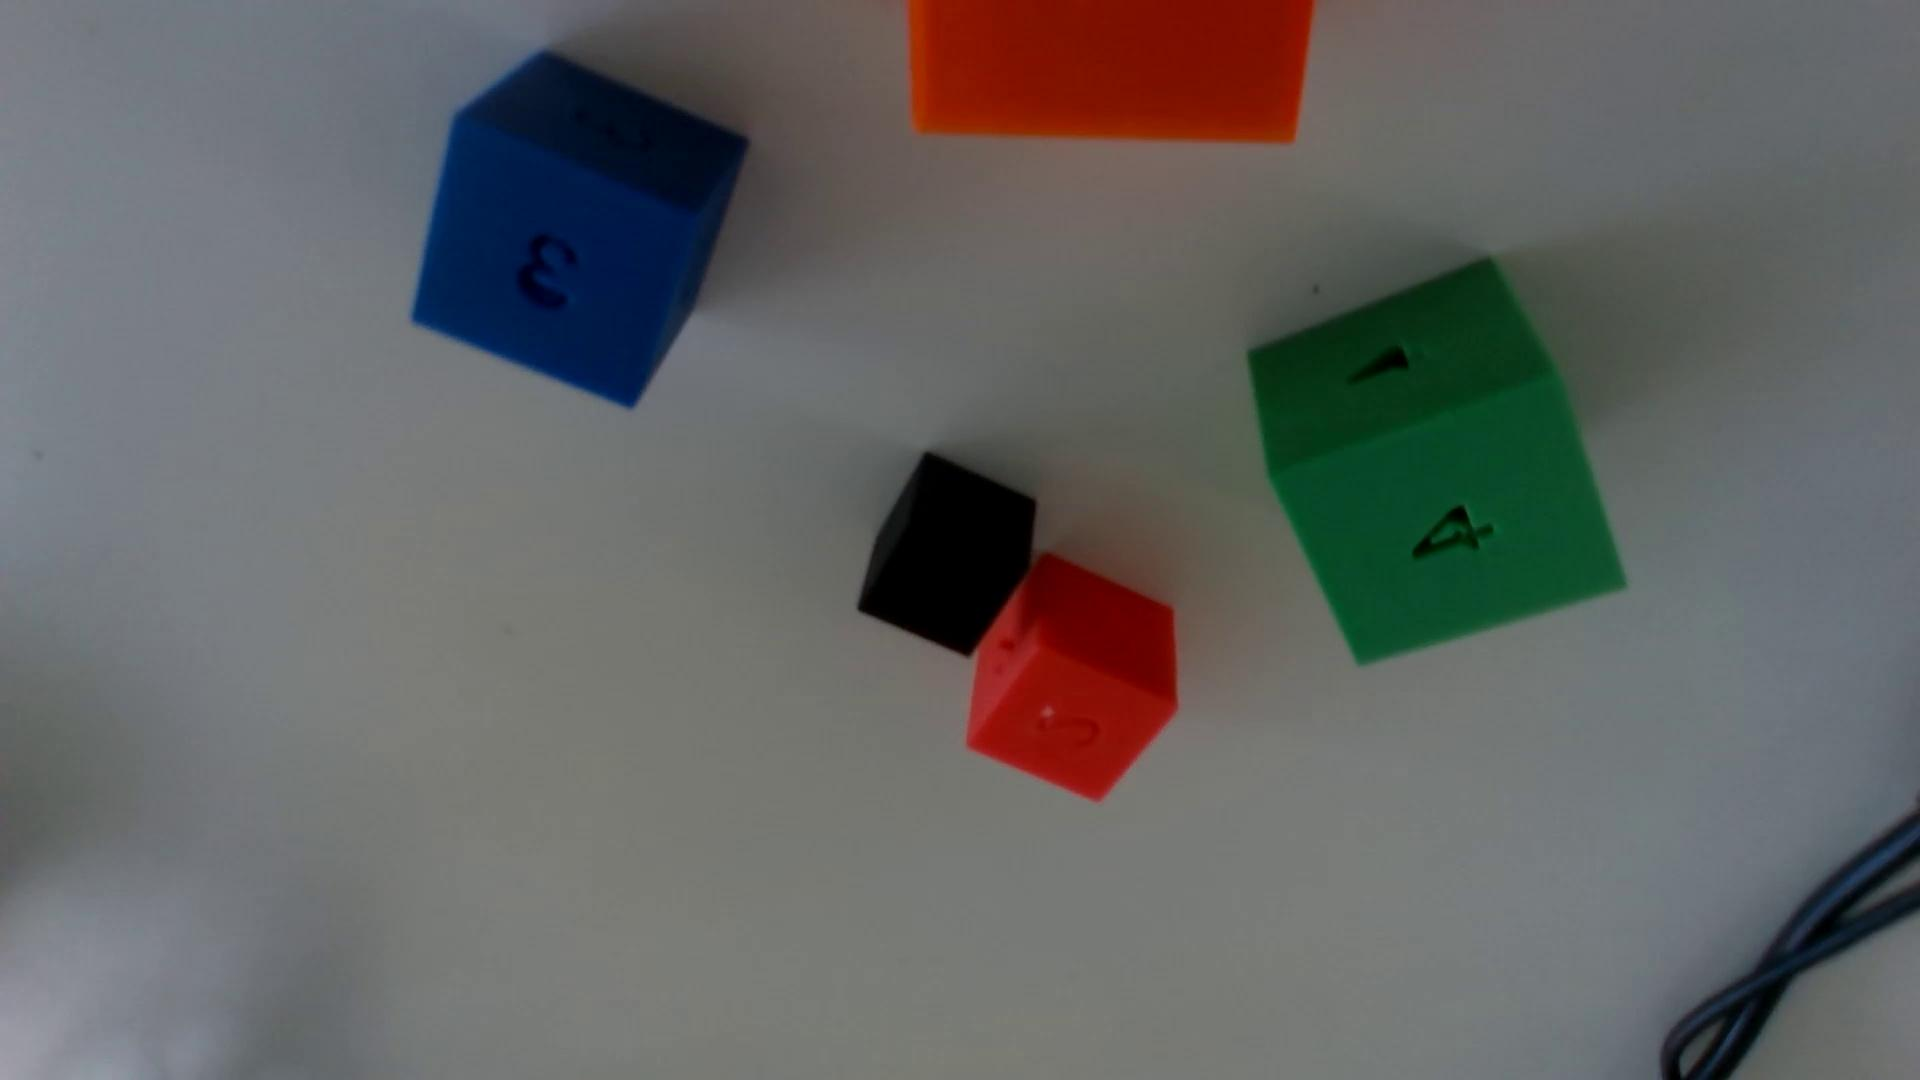black: (858, 452, 1036, 655)
blue: (411, 51, 748, 406)
green: (1249, 258, 1625, 663)
orange: (906, 0, 1313, 142)
red: (967, 551, 1178, 800)
